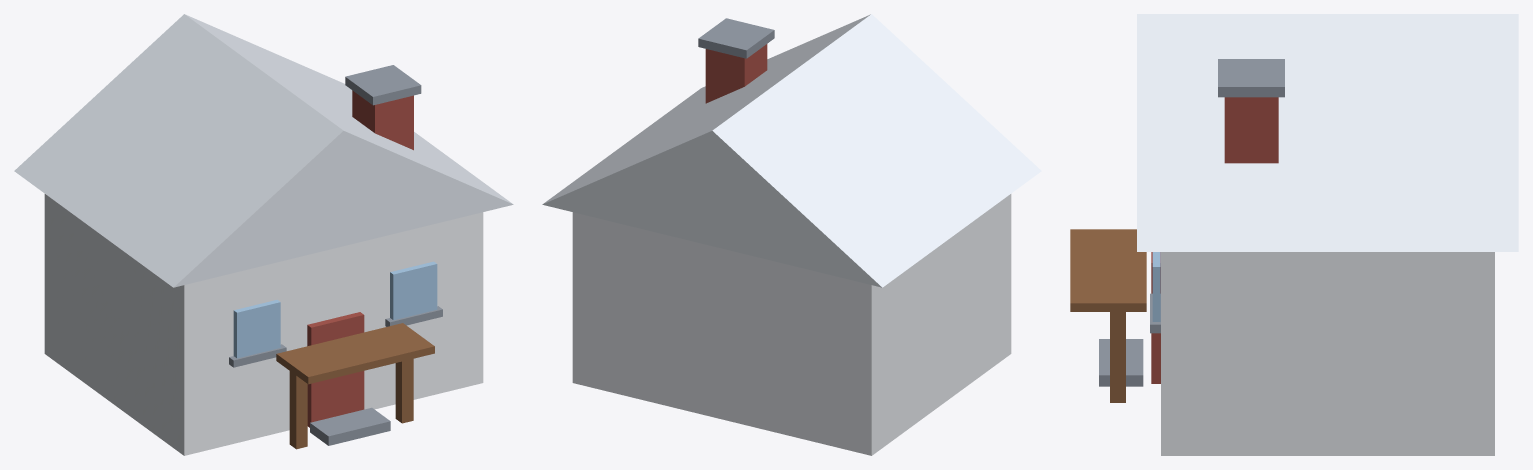
Rendered from cottage.fbx.
The picture shows the model from 3 angles, left to right: view 1: azimuth 30°, elevation 25°; view 2: azimuth 150°, elevation 25°; view 3: azimuth 270°, elevation 25°; orthographic projection. The views are drawn at different scales.
Parts seen in each view (by area): view 1: cottage; view 2: cottage; view 3: cottage.
Boxes of the visible parts, x1,y1,x2,y2 form: cottage: [14, 14, 513, 455]; cottage: [542, 14, 1041, 455]; cottage: [1070, 14, 1518, 455].
Size of the model in its own units: 2800 by 2327 by 2668.
